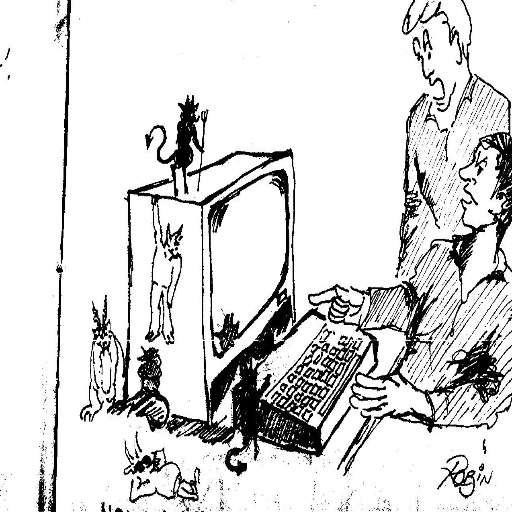hand: (349, 371, 412, 417), (308, 282, 368, 324)
